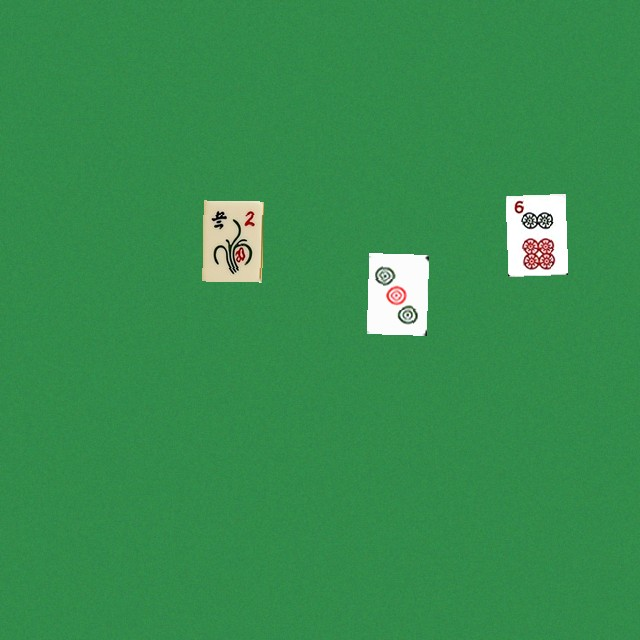tile: (505, 193, 565, 274), (366, 253, 426, 334), (202, 200, 262, 281)
